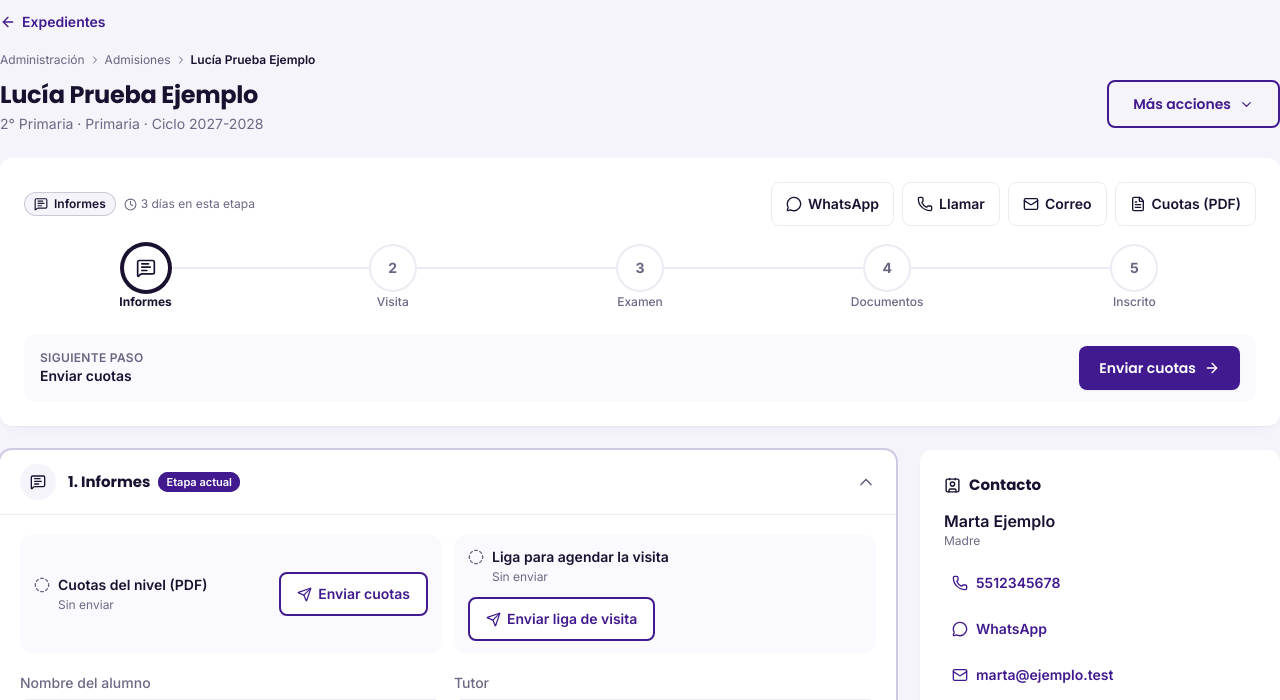
it: AdminCase (Expediente) › SendDialog › sends by email and says to whom
This screenshot has width=1280, height=700.
Expected: the heading "Lucía Prueba Ejemplo" is shown, [0,80,263,110]
Click the button "Enviar cuotas" in the row of "Siguiente paso".
click(1160, 368)  # box [1079,346,1240,390]
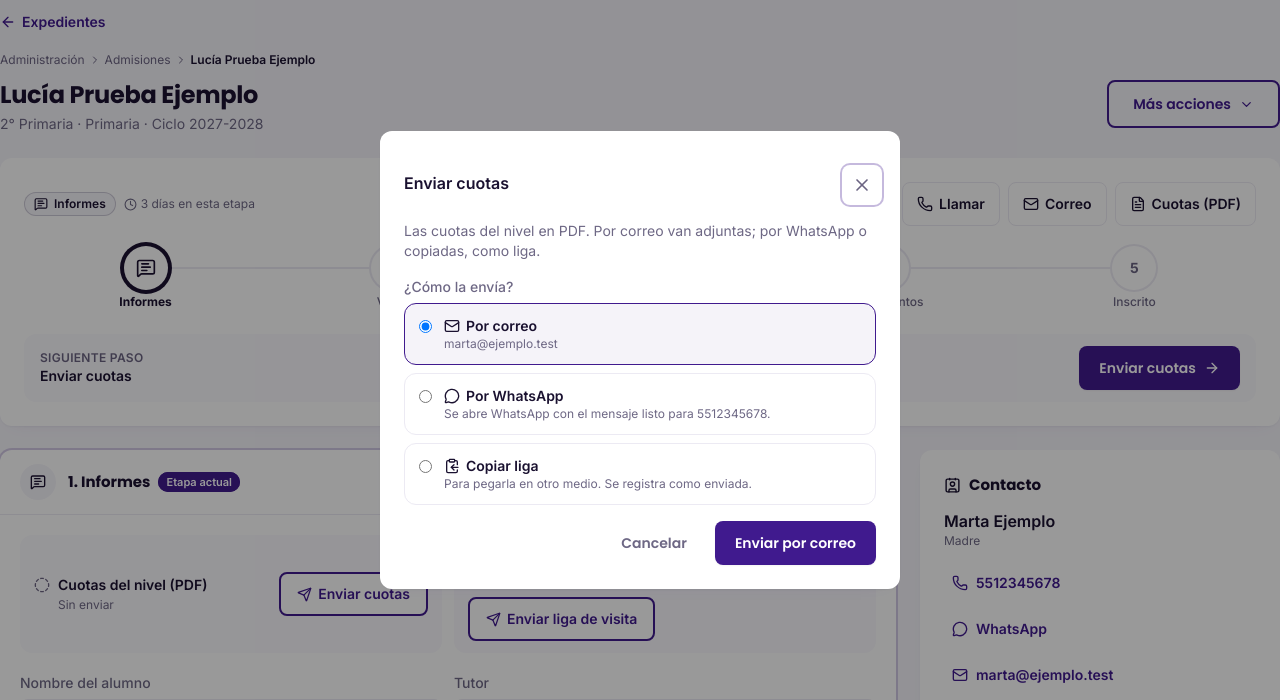
Now the radio button labelled "Por correo marta@ejemplo.test" is checked, box [419,320,432,333]
Click the button "Enviar por correo".
click(795, 543)  # box [715,521,876,565]
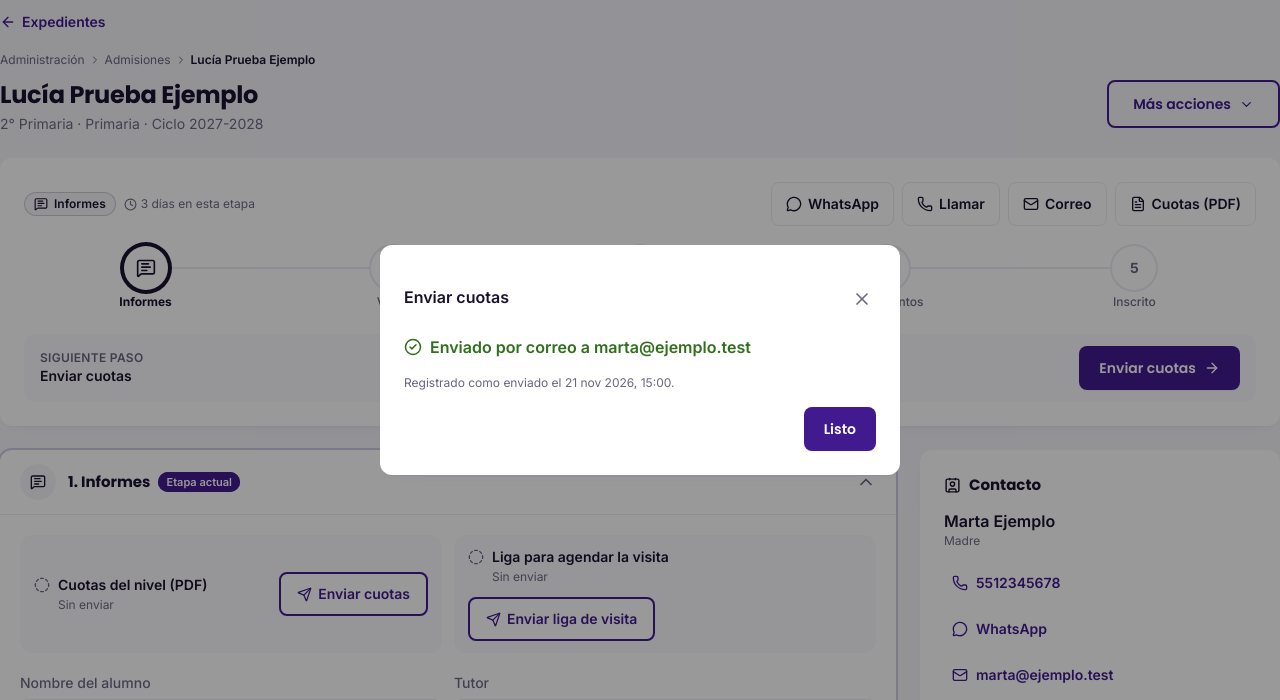
Now the heading "Enviado por correo a marta@ejemplo.test" is shown, box [404,337,751,357]
Now the message shows "Registrado como enviado", box [404,375,565,390]
